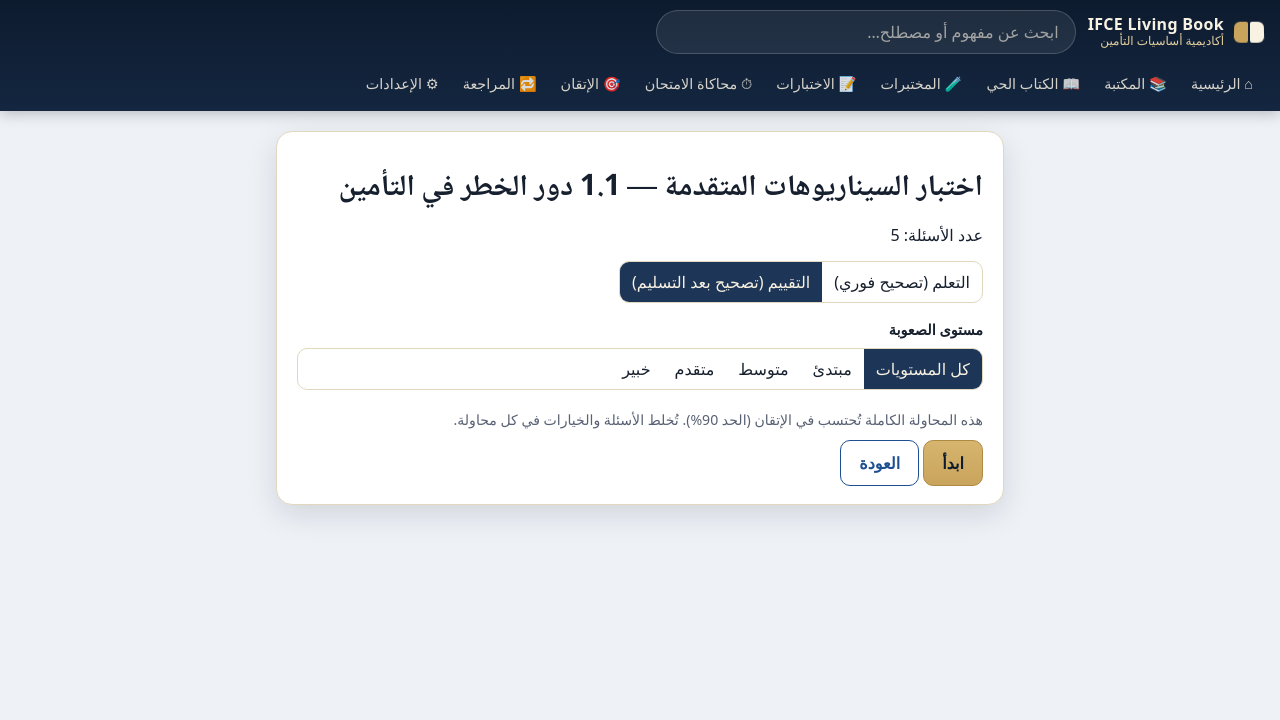
quiz flow and persistence › assess mode hides answers and warns about unanswered questions before submitting
Click the button "ابدأ".
click(953, 463)  # box [923,440,983,486]
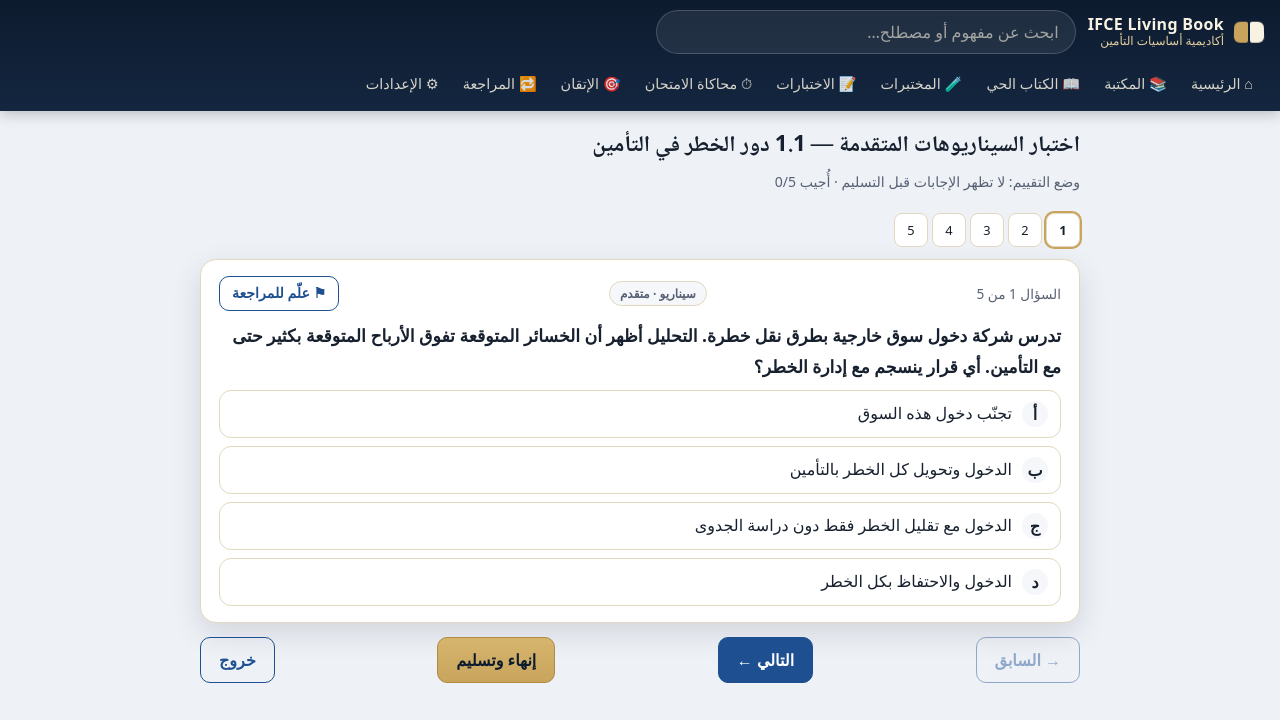
Click the radio button labelled "ب الدخول وتحويل كل الخطر بالتأمين".
click(901, 469)  # box [219,446,1061,494]
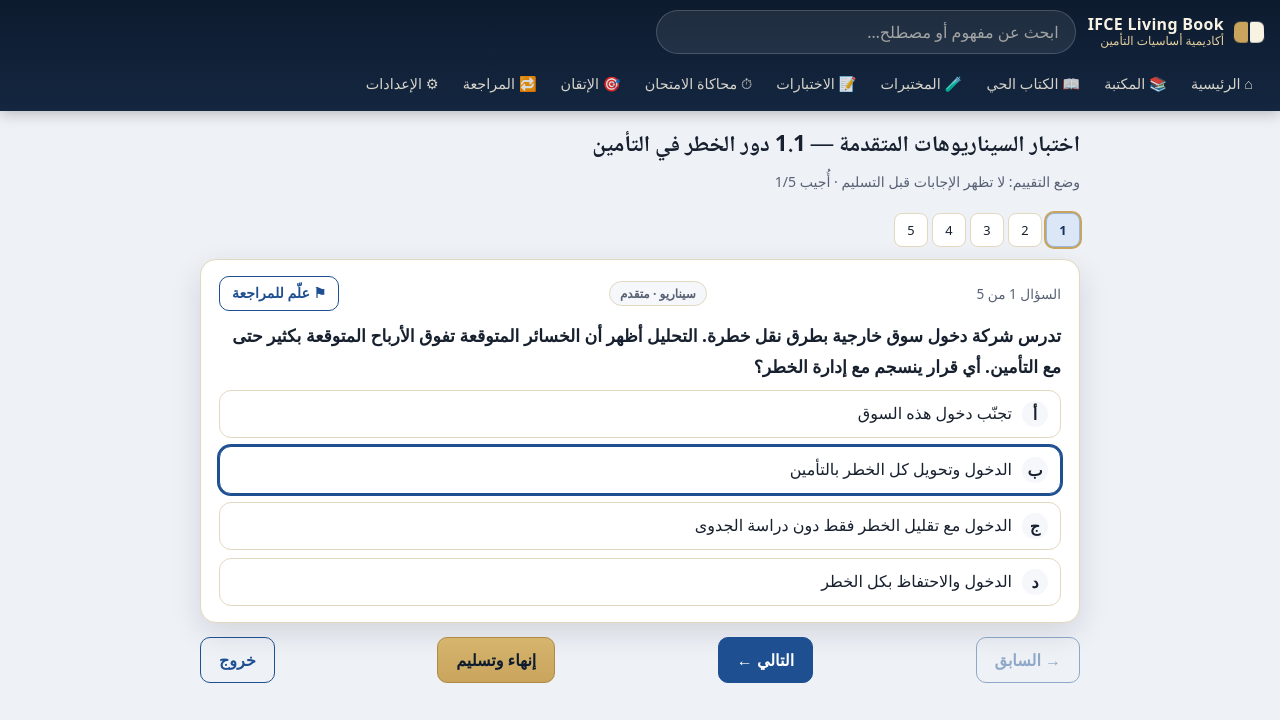
Click the button "إنهاء وتسليم".
click(496, 660)  # box [437,637,555,683]
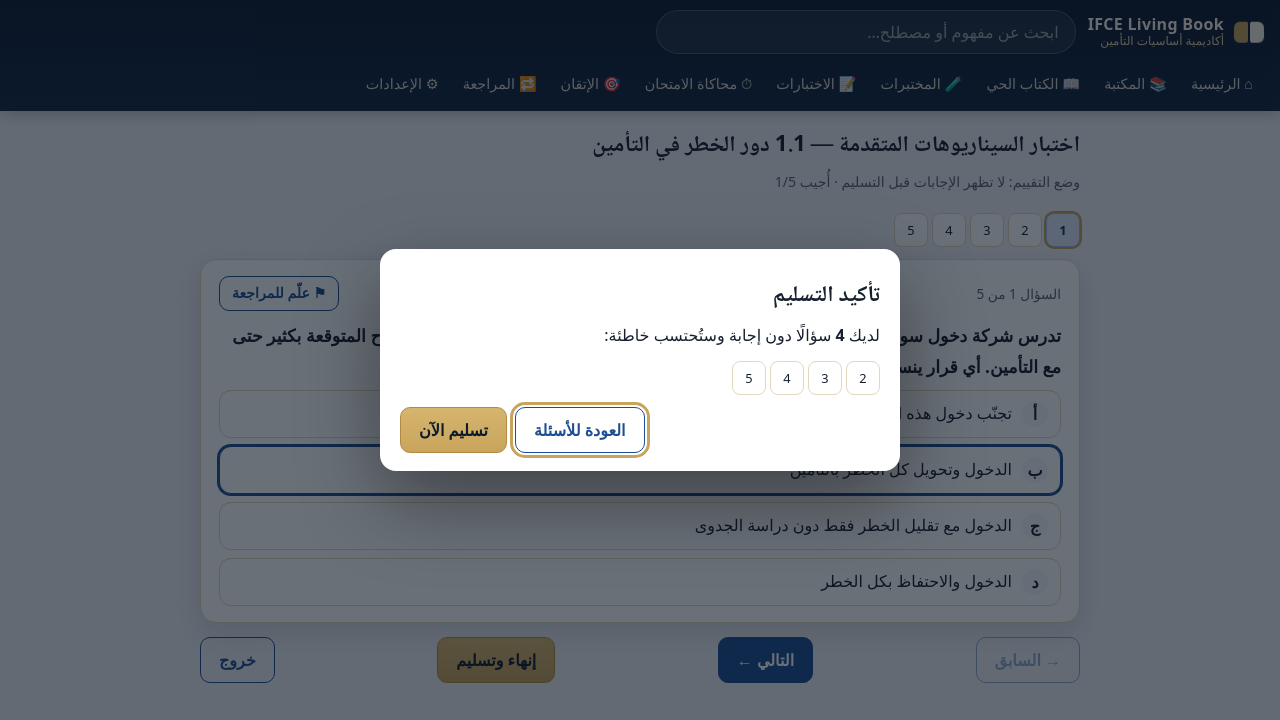
Now the text "لديك 4 سؤالًا دون إجابة وستُحتسب خاطئة:" is shown, box [604,324,880,346]
